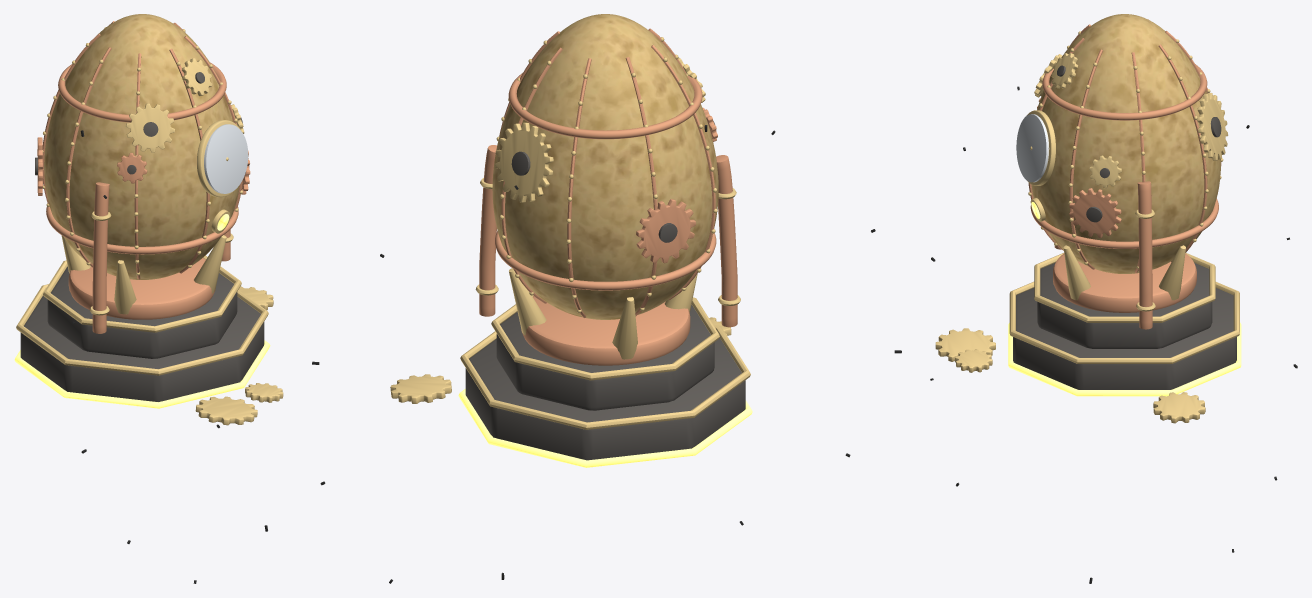
Rendered from clockworkegg.glb.
3 renders of one model, left to right at view 1: azimuth 30°, elevation 25°; view 2: azimuth 150°, elevation 25°; view 3: azimuth 270°, elevation 25°, orthographic. The views are drawn at different scales.
Visible parts, largest first — view 1: ClockworkEgg_Body, ClockworkEgg_Stand_Base, ClockworkEgg_Stand_Mid, ClockworkEgg_Stand_Cup, ClockworkEgg_Stand_Trim, ClockworkEgg_ClockGlass, ClockworkEgg_Pipe.001, ClockworkEgg_Stand_Trim.002, ClockworkEgg_Stand_Trim.001, ClockworkEgg_CopperBand, ClockworkEgg_Gear, ClockworkEgg_CopperBand.001 (+14 smaller); view 2: ClockworkEgg_Body, ClockworkEgg_Stand_Base, ClockworkEgg_Stand_Mid, ClockworkEgg_Stand_Cup, ClockworkEgg_Stand_Trim, ClockworkEgg_Gear.004, ClockworkEgg_Stand_Trim.002, ClockworkEgg_Stand_Trim.001, ClockworkEgg_Pipe.001, ClockworkEgg_Gear.005, ClockworkEgg_CopperBand.001, ClockworkEgg_CopperBand (+7 smaller); view 3: ClockworkEgg_Body, ClockworkEgg_Stand_Base, ClockworkEgg_Stand_Mid, ClockworkEgg_Stand_Cup, ClockworkEgg_Stand_Trim, ClockworkEgg_Stand_Trim.002, ClockworkEgg_Stand_Trim.001, ClockworkEgg_Pipe, ClockworkEgg_ClockGlass, ClockworkEgg_Gear.002, ClockworkEgg_CopperBand.001, ClockworkEgg_CopperBand (+11 smaller).
Boxes of the visible parts, <box> form: ClockworkEgg_Body: <box>44,14,239,279</box>; ClockworkEgg_Stand_Base: <box>20,295,264,401</box>; ClockworkEgg_Stand_Mid: <box>47,267,237,358</box>; ClockworkEgg_Stand_Cup: <box>68,258,215,319</box>; ClockworkEgg_Stand_Trim: <box>16,284,268,375</box>; ClockworkEgg_ClockGlass: <box>204,124,248,193</box>; ClockworkEgg_Pipe.001: <box>92,182,109,333</box>; ClockworkEgg_Stand_Trim.002: <box>14,340,270,408</box>; ClockworkEgg_Stand_Trim.001: <box>43,255,241,332</box>; ClockworkEgg_CopperBand: <box>46,206,238,254</box>; ClockworkEgg_Gear: <box>125,103,175,152</box>; ClockworkEgg_CopperBand.001: <box>58,62,226,122</box>; ClockworkEgg_Body: <box>492,14,718,319</box>; ClockworkEgg_Stand_Base: <box>465,338,745,460</box>; ClockworkEgg_Stand_Mid: <box>496,304,714,410</box>; ClockworkEgg_Stand_Cup: <box>521,296,690,365</box>; ClockworkEgg_Stand_Trim: <box>460,324,750,429</box>; ClockworkEgg_Gear.004: <box>495,122,553,202</box>; ClockworkEgg_Stand_Trim.002: <box>458,389,752,467</box>; ClockworkEgg_Stand_Trim.001: <box>491,295,719,380</box>; ClockworkEgg_Pipe.001: <box>716,155,737,327</box>; ClockworkEgg_Gear.005: <box>636,199,695,263</box>; ClockworkEgg_CopperBand.001: <box>508,73,702,139</box>; ClockworkEgg_CopperBand: <box>495,231,716,290</box>; ClockworkEgg_Body: <box>1031,14,1220,273</box>; ClockworkEgg_Stand_Base: <box>1013,288,1236,389</box>; ClockworkEgg_Stand_Mid: <box>1037,262,1212,348</box>; ClockworkEgg_Stand_Cup: <box>1053,253,1196,312</box>; ClockworkEgg_Stand_Trim: <box>1009,281,1239,363</box>; ClockworkEgg_Stand_Trim.002: <box>1008,322,1241,396</box>; ClockworkEgg_Stand_Trim.001: <box>1034,253,1215,322</box>; ClockworkEgg_Pipe: <box>1137,181,1152,329</box>; ClockworkEgg_ClockGlass: <box>1016,114,1048,182</box>; ClockworkEgg_Gear.002: <box>1069,188,1121,237</box>; ClockworkEgg_CopperBand.001: <box>1042,64,1207,120</box>; ClockworkEgg_CopperBand: <box>1030,198,1218,248</box>.
Size of the model in its own units: 4.91 by 7.49 by 4.85.
8 materials, 1 textured.
